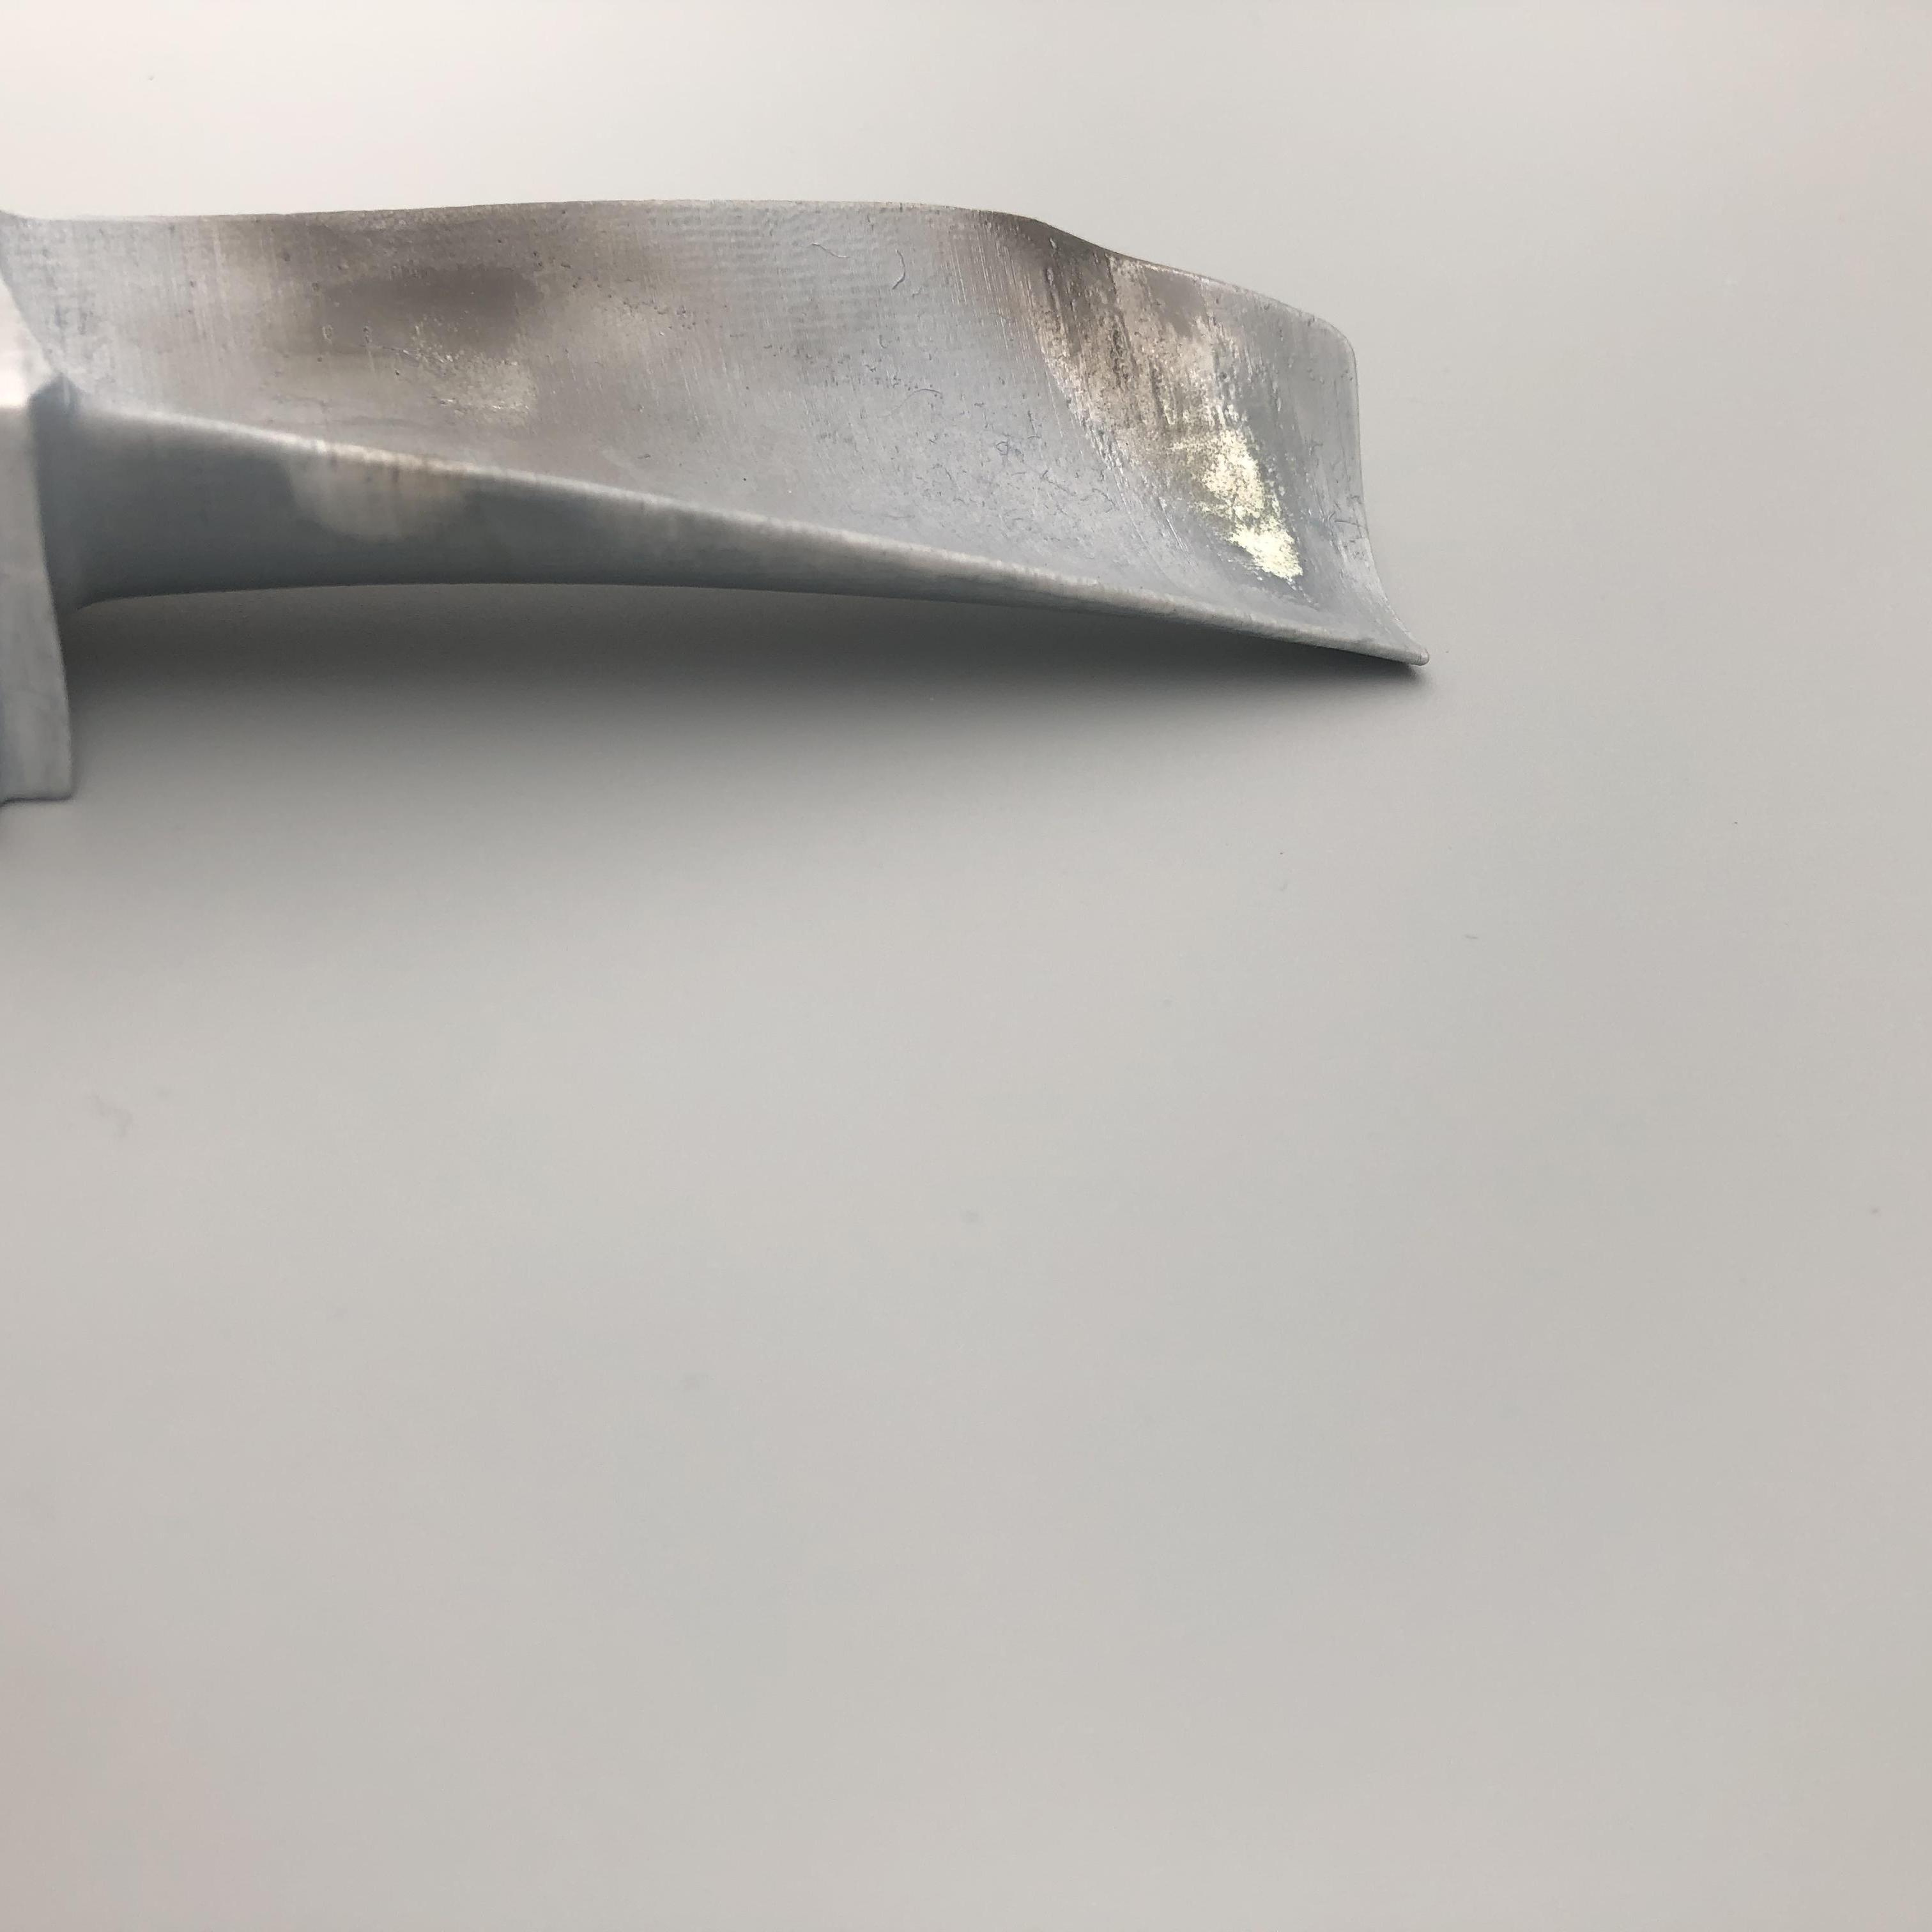ablation: (996, 219, 1320, 598), (272, 221, 678, 501)
